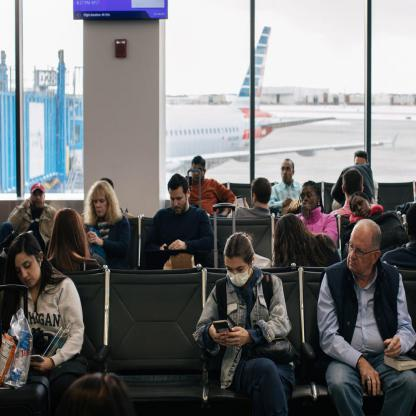Not_Wearing_Mask: (347, 234, 367, 274), (14, 256, 40, 286), (170, 189, 186, 215), (351, 198, 371, 218), (92, 193, 107, 219), (301, 187, 313, 211), (282, 162, 292, 182), (32, 192, 44, 208), (191, 163, 201, 181)
Wearing_Mask: (225, 256, 249, 288)
